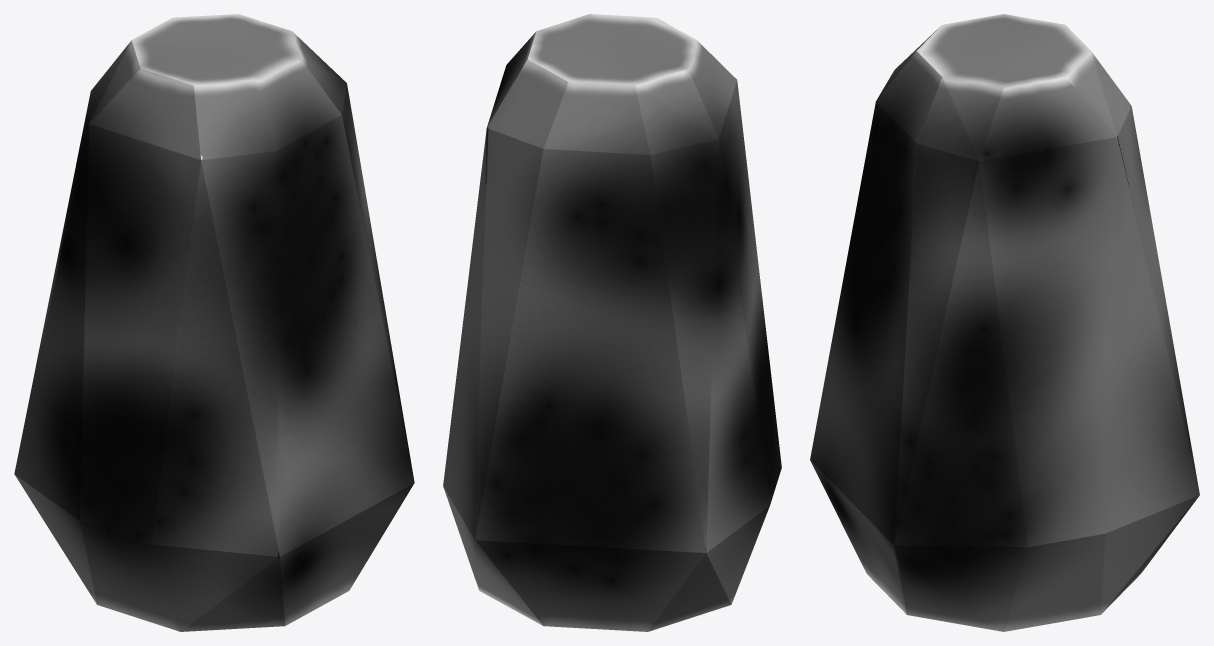
Rendered from RockPillar2.fbx.
3 renders of one model, left to right at view 1: azimuth 30°, elevation 25°; view 2: azimuth 150°, elevation 25°; view 3: azimuth 270°, elevation 25°, orthographic.
Visible parts, largest first — view 1: Cylinder; view 2: Cylinder; view 3: Cylinder.
Part boxes in pixels (<box>): Cylinder: <box>14,14,414,631</box>; Cylinder: <box>443,14,781,631</box>; Cylinder: <box>810,14,1199,631</box>.
Size of the model in its own units: 443 by 758 by 512.
1 material, 1 textured.
